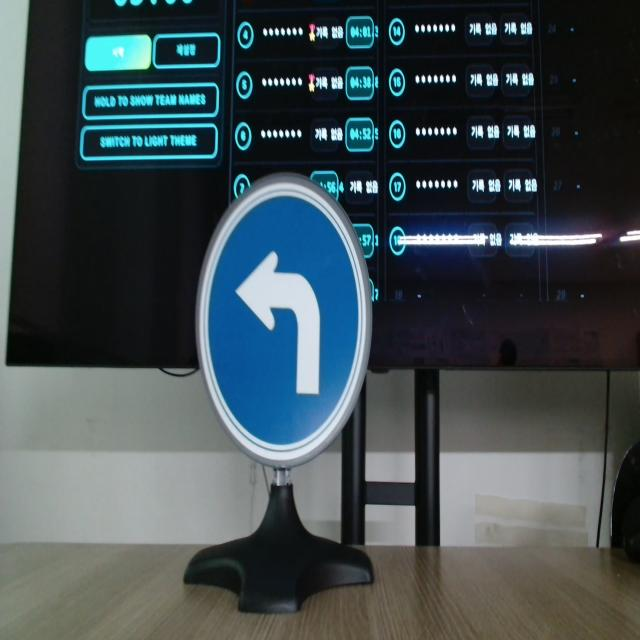left_direction: (194, 173, 372, 455)
